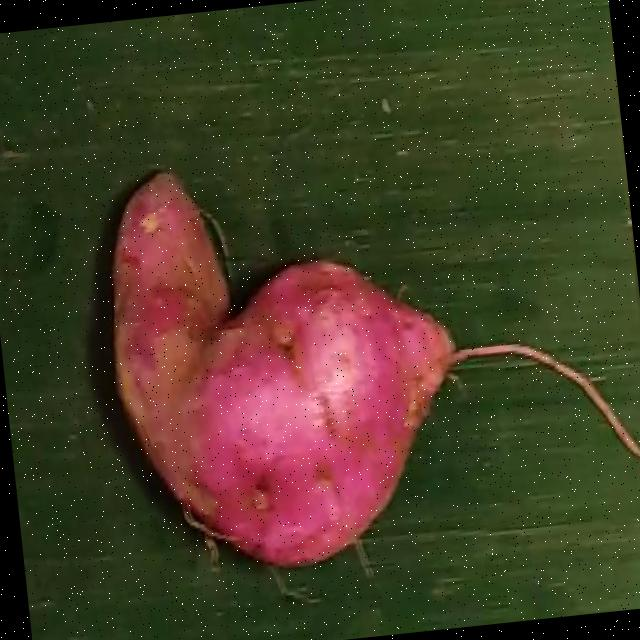Sweet Potato: (112, 168, 453, 565)
